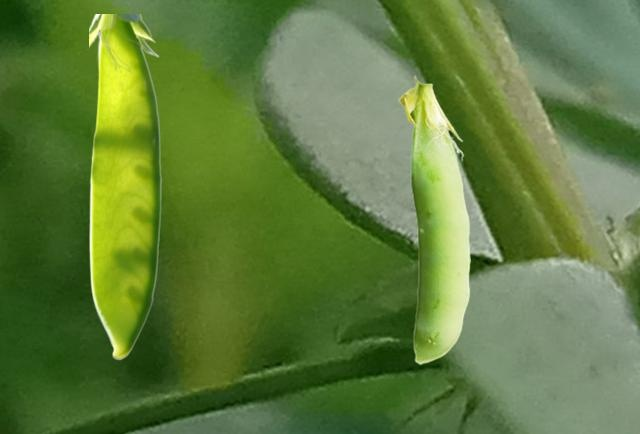pea: (89, 14, 161, 359), (398, 75, 469, 363)
